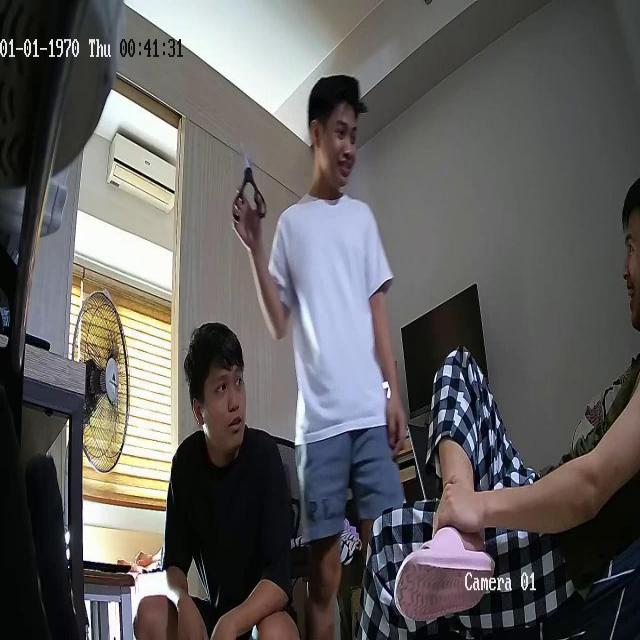scissor: (231, 143, 266, 222)
